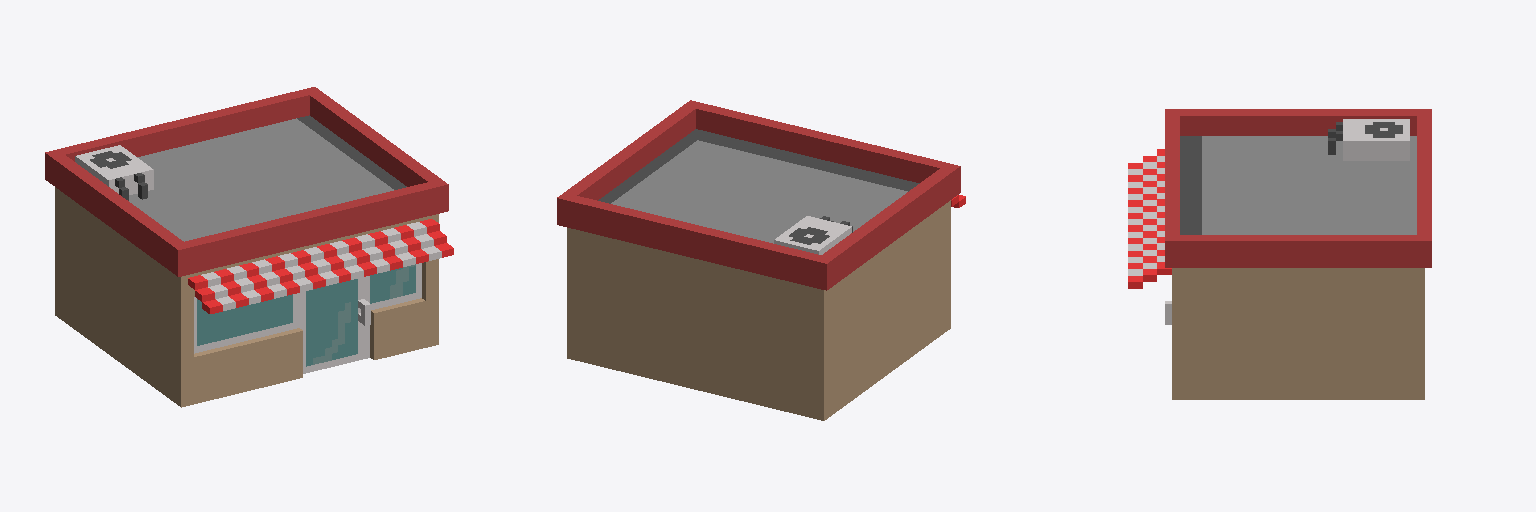
3 renders of one model, left to right at view 1: azimuth 30°, elevation 25°; view 2: azimuth 150°, elevation 25°; view 3: azimuth 270°, elevation 25°, orthographic.
Parts seen in each view (by area): view 1: object 1; view 2: object 1; view 3: object 1.
Part boxes in pixels (bbox=[...]): object 1: bbox=[45, 87, 453, 407]; object 1: bbox=[557, 100, 965, 420]; object 1: bbox=[1128, 109, 1431, 399].
Bounding box in the file's own units: 4.2 × 2.4 × 4.1.
1 materials, 1 textured.